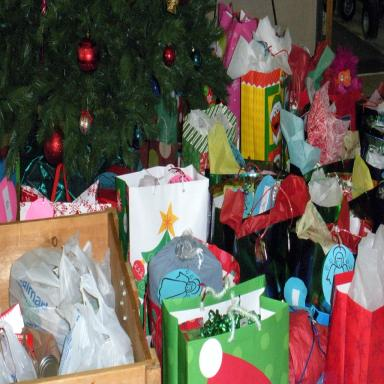plasticbag: (5, 233, 91, 353), (58, 268, 135, 372), (0, 320, 36, 383)
